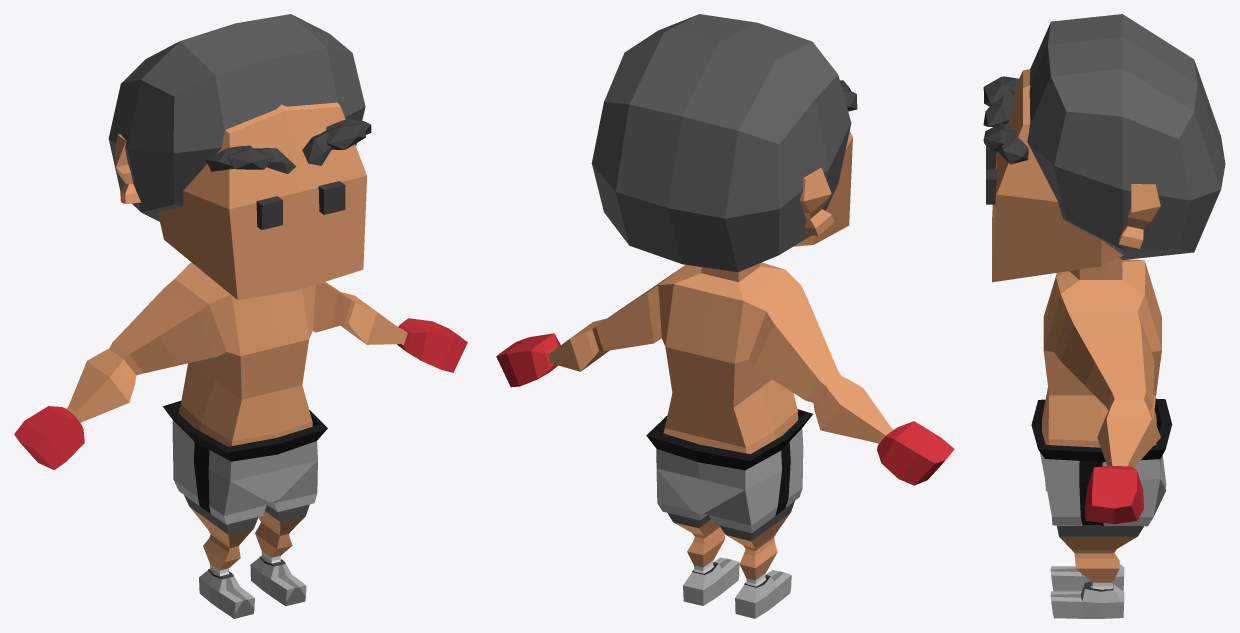
Rendered from GMDS_Boxer_Model_ST003122721.fbx.
3 views of the same model, side by side, from view 1: azimuth 30°, elevation 25°; view 2: azimuth 150°, elevation 25°; view 3: azimuth 270°, elevation 25° (orthographic).
Visible parts, largest first — view 1: Rumble High; view 2: Rumble High; view 3: Rumble High.
Part boxes in pixels (x1=…): Rumble High: x1=14, y1=14, x2=467, y2=618; Rumble High: x1=496, y1=14, x2=954, y2=618; Rumble High: x1=983, y1=14, x2=1225, y2=618.
Size of the model in its own units: 175 by 214 by 83.07.
